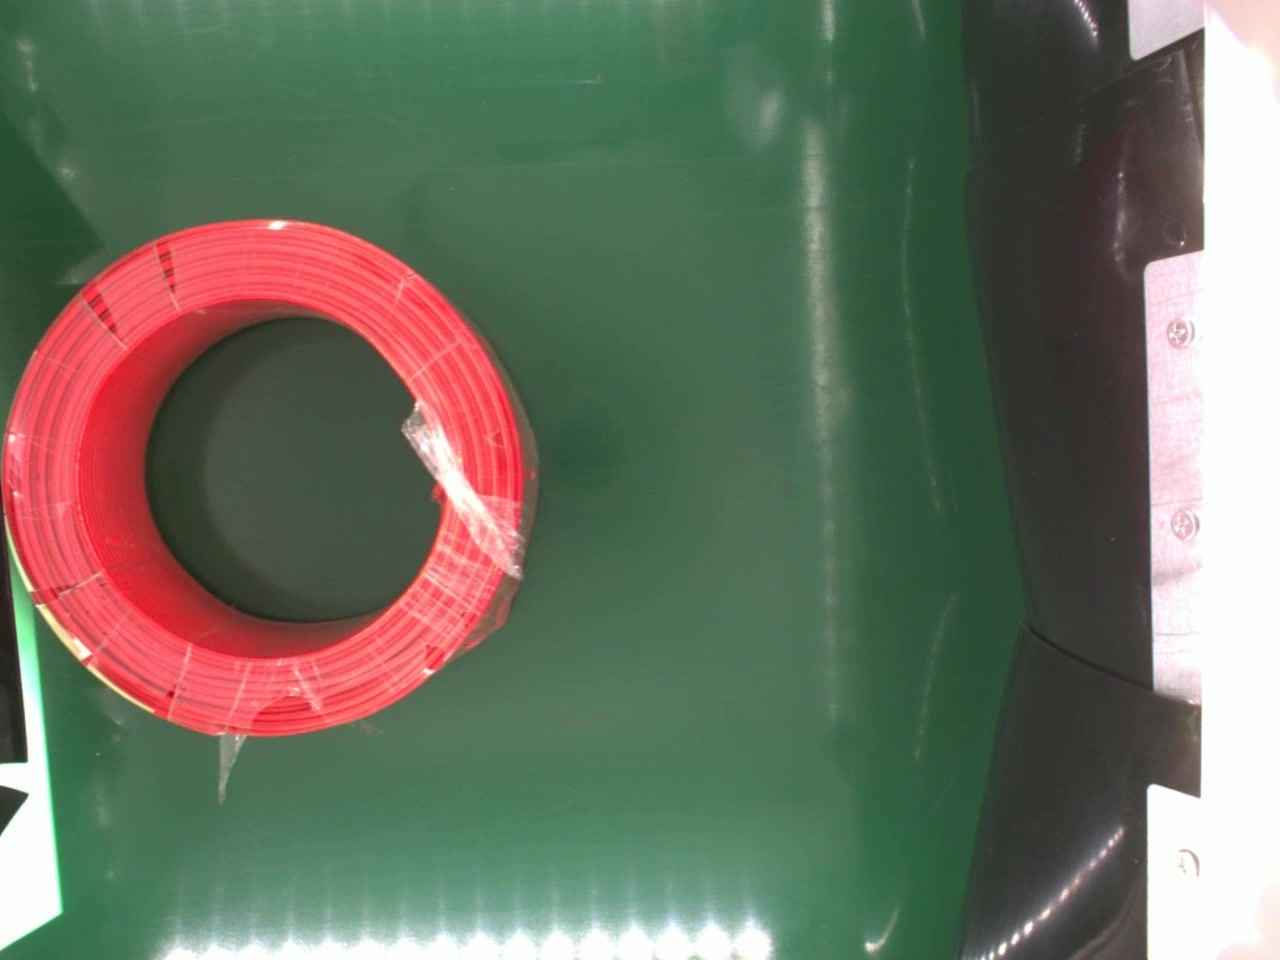red: (1, 215, 544, 737)
